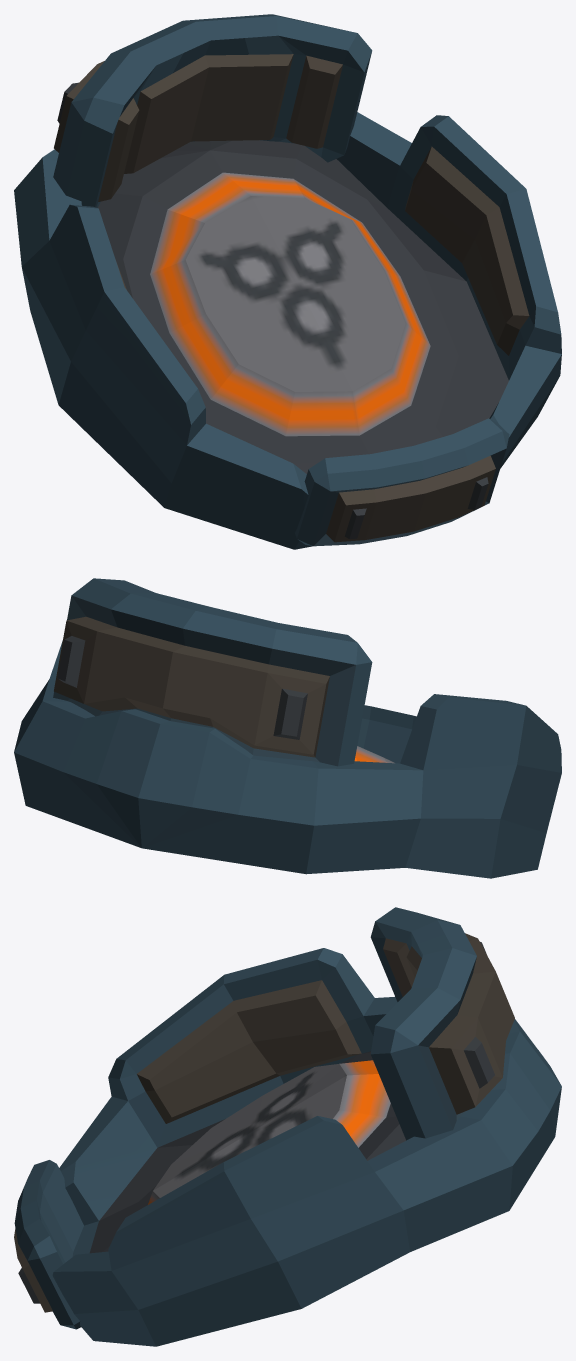
File: SM_Mech_Neck_01_Armor_Collar_02.fbx
3 renders of one model, top to bottom at view 1: azimuth 30°, elevation 25°; view 2: azimuth 150°, elevation 25°; view 3: azimuth 270°, elevation 25°, orthographic. The views are drawn at different scales.
Parts seen in each view (by area): view 1: SM_Mech_Neck_01_Armor_Collar_02; view 2: SM_Mech_Neck_01_Armor_Collar_02; view 3: SM_Mech_Neck_01_Armor_Collar_02.
Part boxes in pixels (x1,y1,x2,y2): SM_Mech_Neck_01_Armor_Collar_02: (14,14,561,549); SM_Mech_Neck_01_Armor_Collar_02: (14,578,561,878); SM_Mech_Neck_01_Armor_Collar_02: (14,907,561,1346).
Bounding box in the file's own units: 108 × 88.34 × 124.
